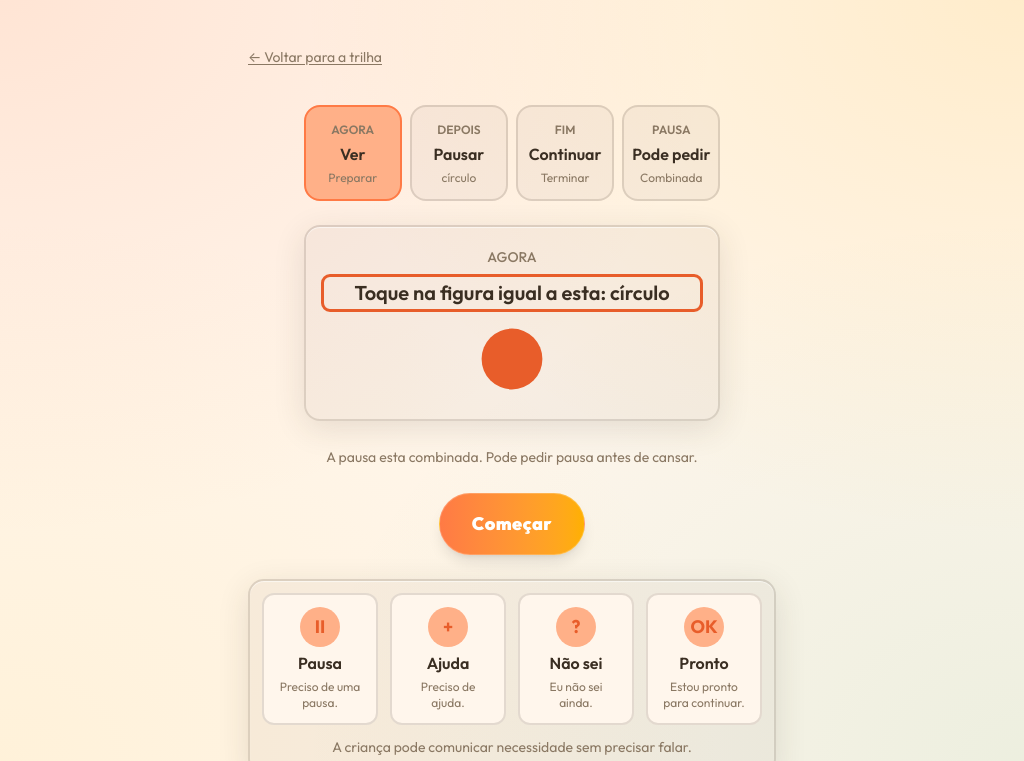
Atividade › aumenta a ajuda visual quando a crianca comunica que nao sabe
Click the button "Começar".
click(512, 524)  # box top-left (439, 493), bottom-right (585, 555)
(page scrolled)
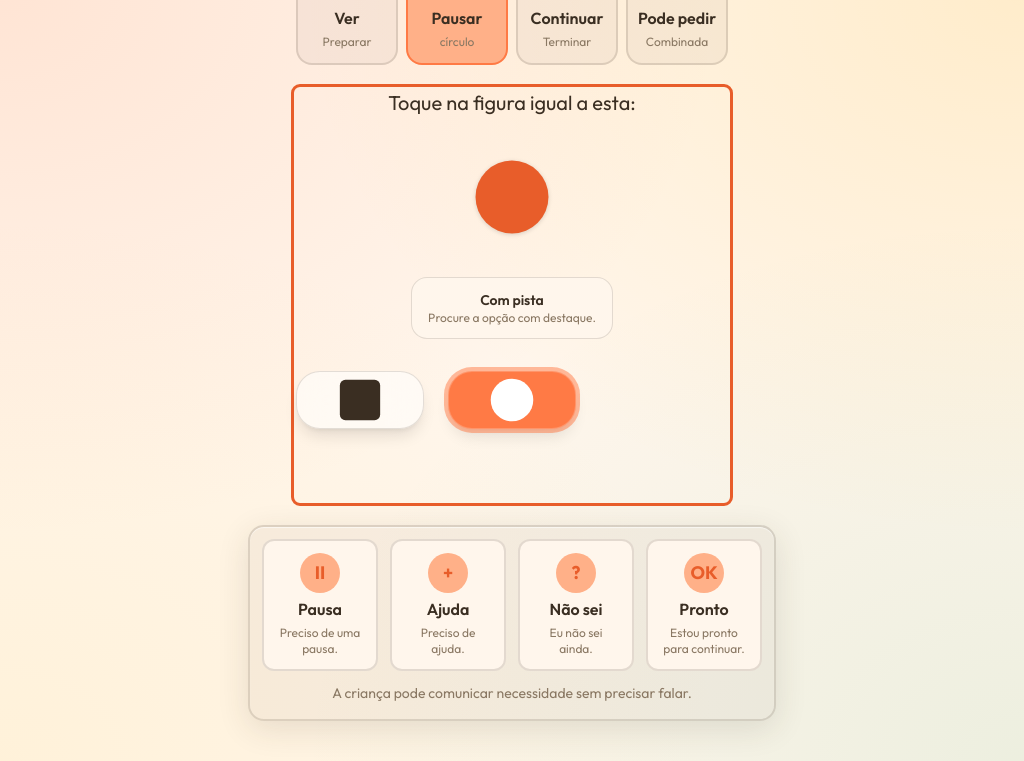
expect the text "Escolha esta" is not shown: met
expect the button named "círculo" is shown: met, box top-left (448, 371), bottom-right (576, 429)
Click the button named "Não sei. Eu não sei ainda.".
click(576, 605)  # box top-left (518, 539), bottom-right (634, 671)
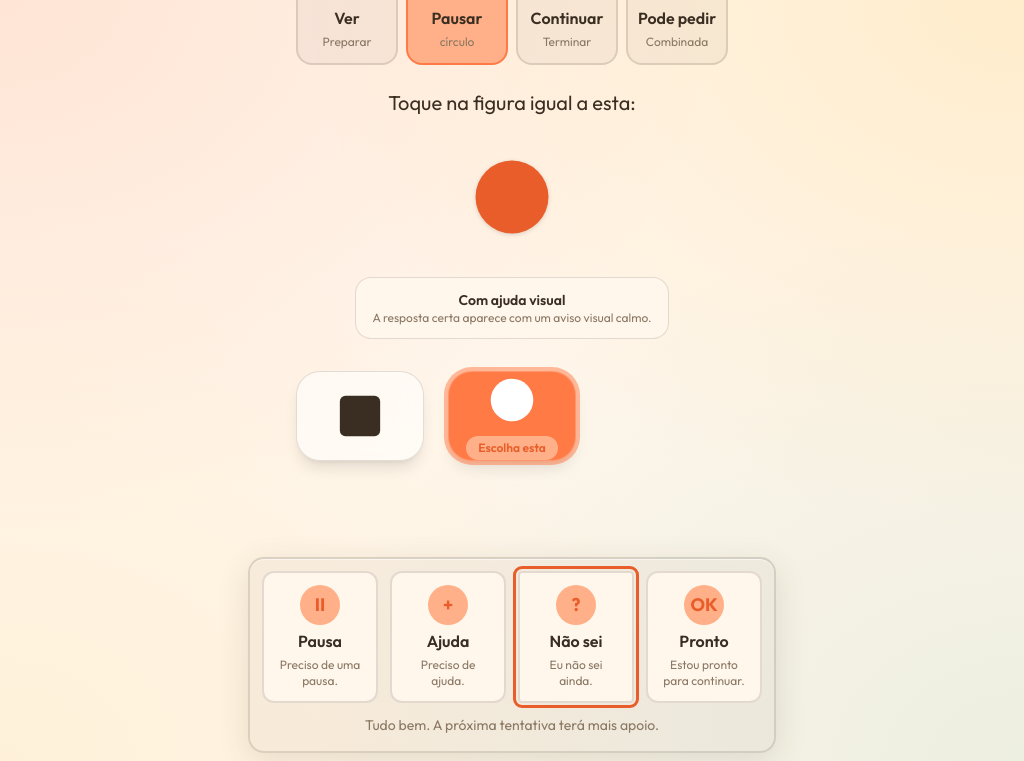
expect the button named "círculo. Escolha esta" is shown: met, box top-left (448, 371), bottom-right (576, 461)
expect the text "Tudo bem. A próxima tentativa terá mais apoio." is shown: met, box top-left (365, 716), bottom-right (659, 734)
